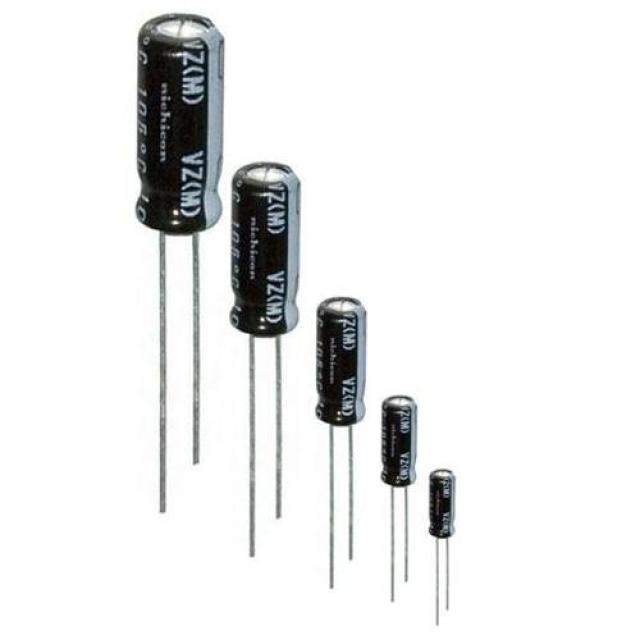Capacitor: (136, 14, 224, 512), (230, 162, 300, 557), (316, 298, 366, 588), (381, 395, 418, 601), (429, 469, 455, 626)
